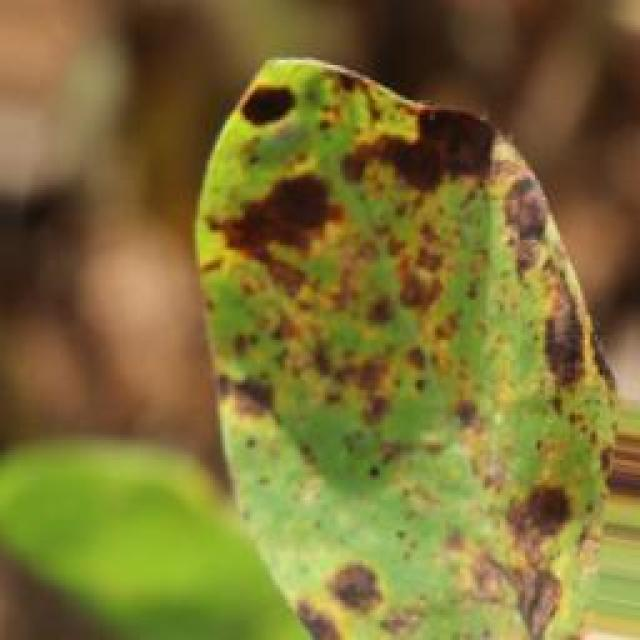Yellowish: (178, 24, 618, 640)
